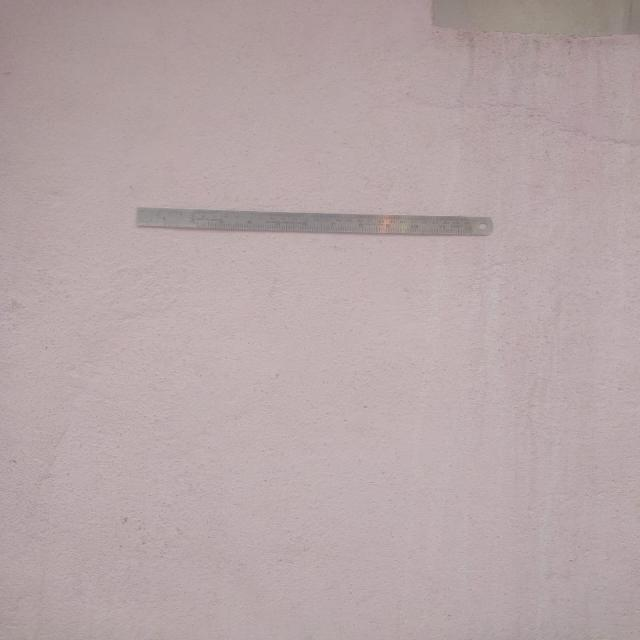scale: (134, 207, 498, 237)
